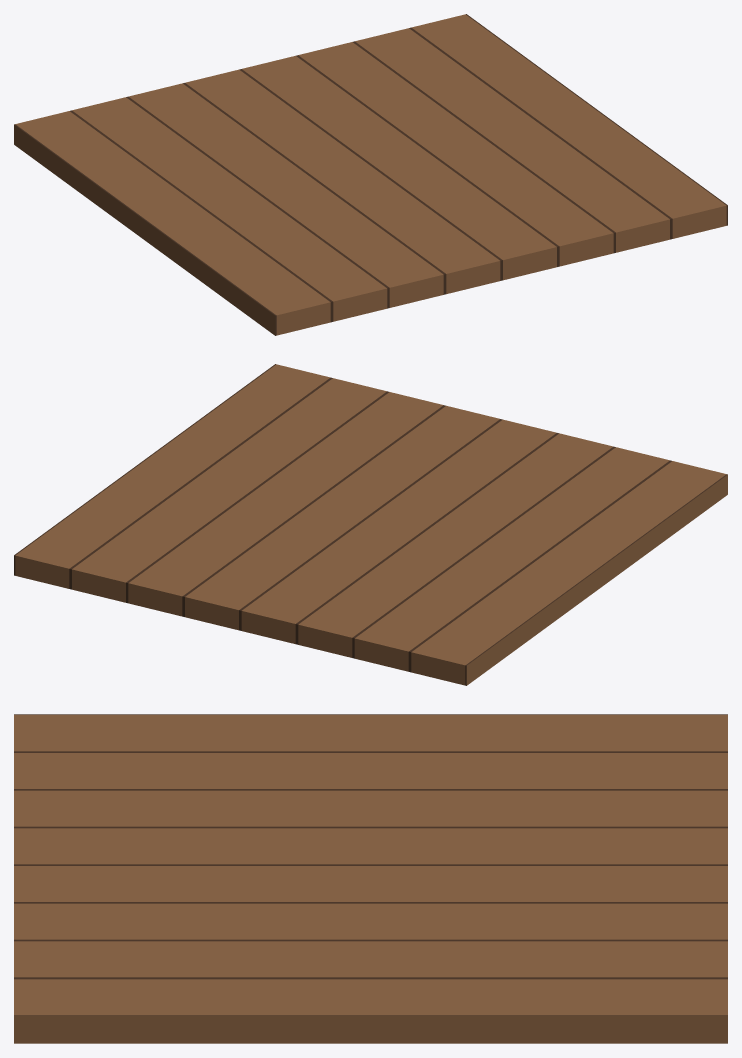
File: Floor_05.fbx
The picture shows the model from 3 angles, top to bottom: view 1: azimuth 30°, elevation 25°; view 2: azimuth 150°, elevation 25°; view 3: azimuth 270°, elevation 25°; orthographic projection. The views are drawn at different scales.
Parts seen in each view (by area): view 1: Floor_05; view 2: Floor_05; view 3: Floor_05.
Boxes of the visible parts, box(x1,y1,x2,y2) form: Floor_05: box(14, 14, 727, 335); Floor_05: box(14, 364, 727, 685); Floor_05: box(14, 714, 727, 1043).
Size of the model in its own units: 259 by 11.07 by 259.
